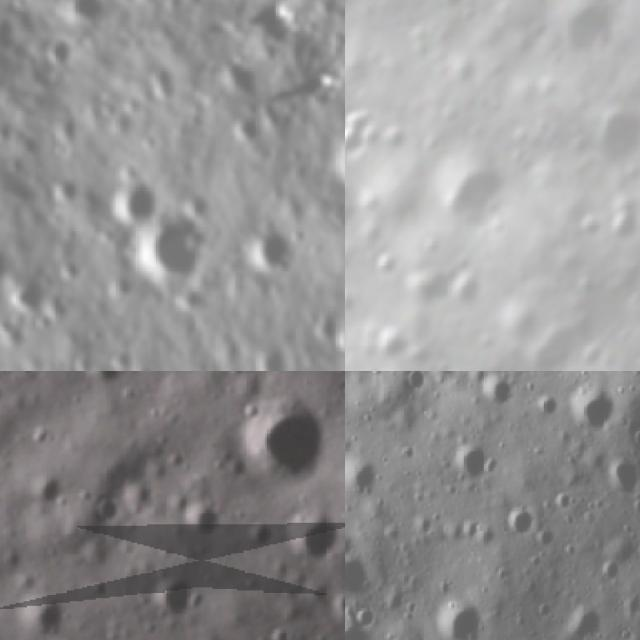crater: (219, 386, 331, 493), (434, 146, 515, 244), (136, 208, 221, 294), (559, 0, 625, 65), (282, 508, 345, 575), (521, 311, 588, 371), (588, 94, 640, 168), (568, 383, 628, 445), (144, 570, 198, 634), (244, 222, 304, 278), (433, 591, 499, 640), (110, 168, 164, 227), (174, 502, 234, 551), (208, 54, 266, 104), (14, 592, 74, 640), (446, 437, 492, 495), (472, 375, 524, 419), (345, 545, 385, 602), (299, 301, 345, 349), (6, 278, 56, 320), (597, 457, 640, 505), (345, 455, 385, 506), (84, 490, 135, 529), (556, 604, 611, 640), (444, 268, 490, 311), (146, 57, 182, 108), (373, 320, 416, 362), (345, 101, 373, 161), (52, 102, 88, 148), (43, 167, 83, 208), (225, 111, 263, 151), (40, 28, 76, 70), (609, 192, 640, 240), (63, 0, 112, 29), (248, 338, 291, 371), (368, 241, 408, 276), (29, 470, 62, 510), (596, 552, 628, 593), (320, 588, 345, 640), (569, 264, 606, 298), (579, 204, 613, 239), (104, 339, 141, 371), (396, 371, 439, 396), (82, 371, 138, 389), (385, 122, 416, 154), (61, 349, 106, 371), (330, 125, 345, 186), (584, 338, 611, 365), (361, 124, 386, 152), (2, 371, 45, 386), (0, 245, 16, 285), (345, 284, 364, 317), (330, 321, 345, 361), (458, 2, 483, 23), (439, 0, 472, 10), (348, 371, 376, 379)
